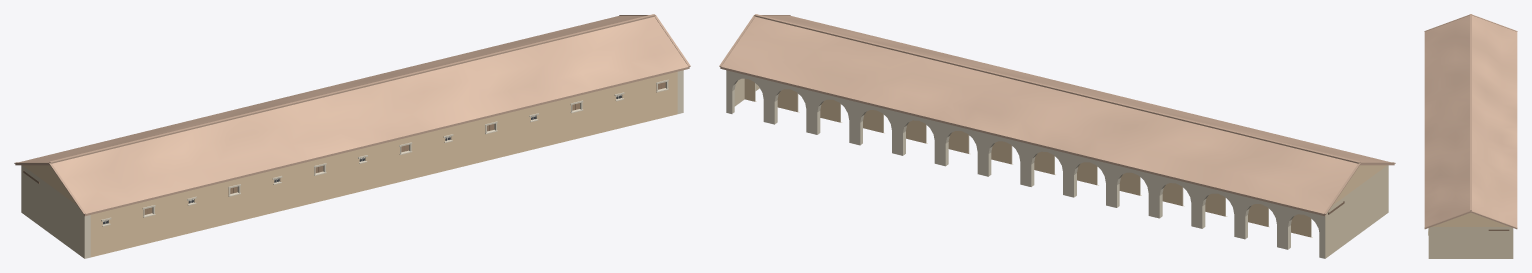
File: SM_BM_BE_2_Stables.glb
The picture shows the model from 3 angles, left to right: view 1: azimuth 30°, elevation 25°; view 2: azimuth 150°, elevation 25°; view 3: azimuth 270°, elevation 25°; orthographic projection. The views are drawn at different scales.
Parts seen in each view (by area): view 1: SM_BM_BE_2_Stables; view 2: SM_BM_BE_2_Stables; view 3: SM_BM_BE_2_Stables.
Part boxes in pixels (x1,y1,x2,y2): SM_BM_BE_2_Stables: (14, 14, 690, 258); SM_BM_BE_2_Stables: (719, 14, 1395, 258); SM_BM_BE_2_Stables: (1424, 14, 1517, 258).
Size of the model in its own units: 60.8 by 7.12 by 12.13.
